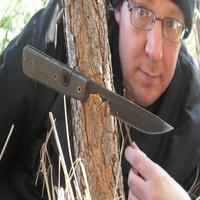knife: (11, 41, 179, 137)
